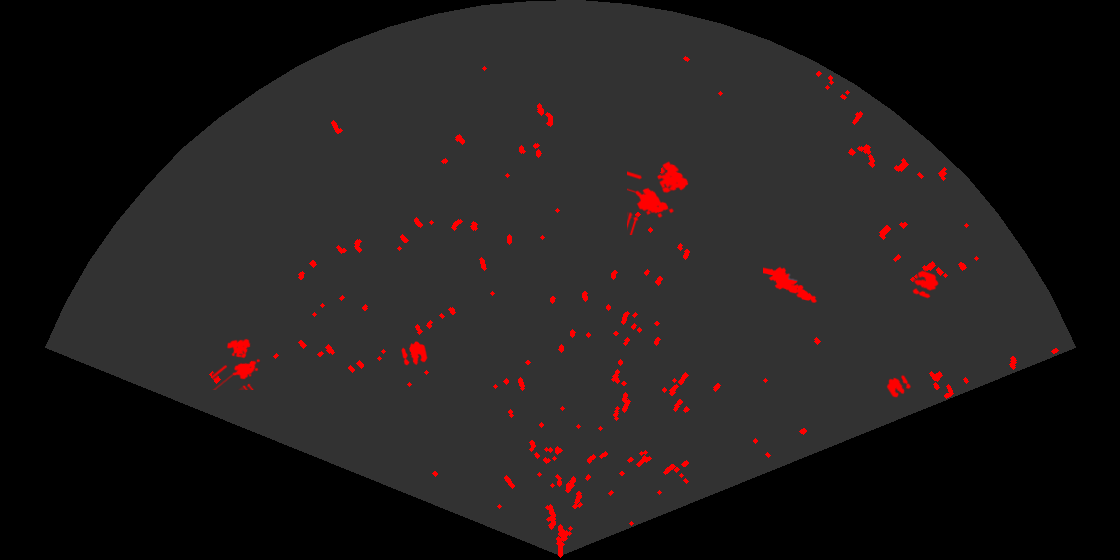ball: (911, 269, 940, 300), (400, 340, 429, 367), (885, 373, 913, 399)
cage: (627, 160, 690, 235), (212, 337, 262, 390)
frogman: (763, 265, 819, 305)
